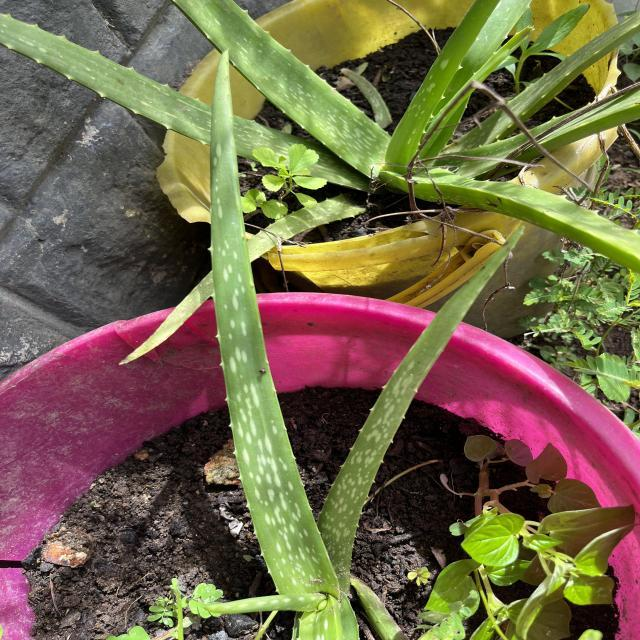Aloe vera: (202, 40, 344, 604)
